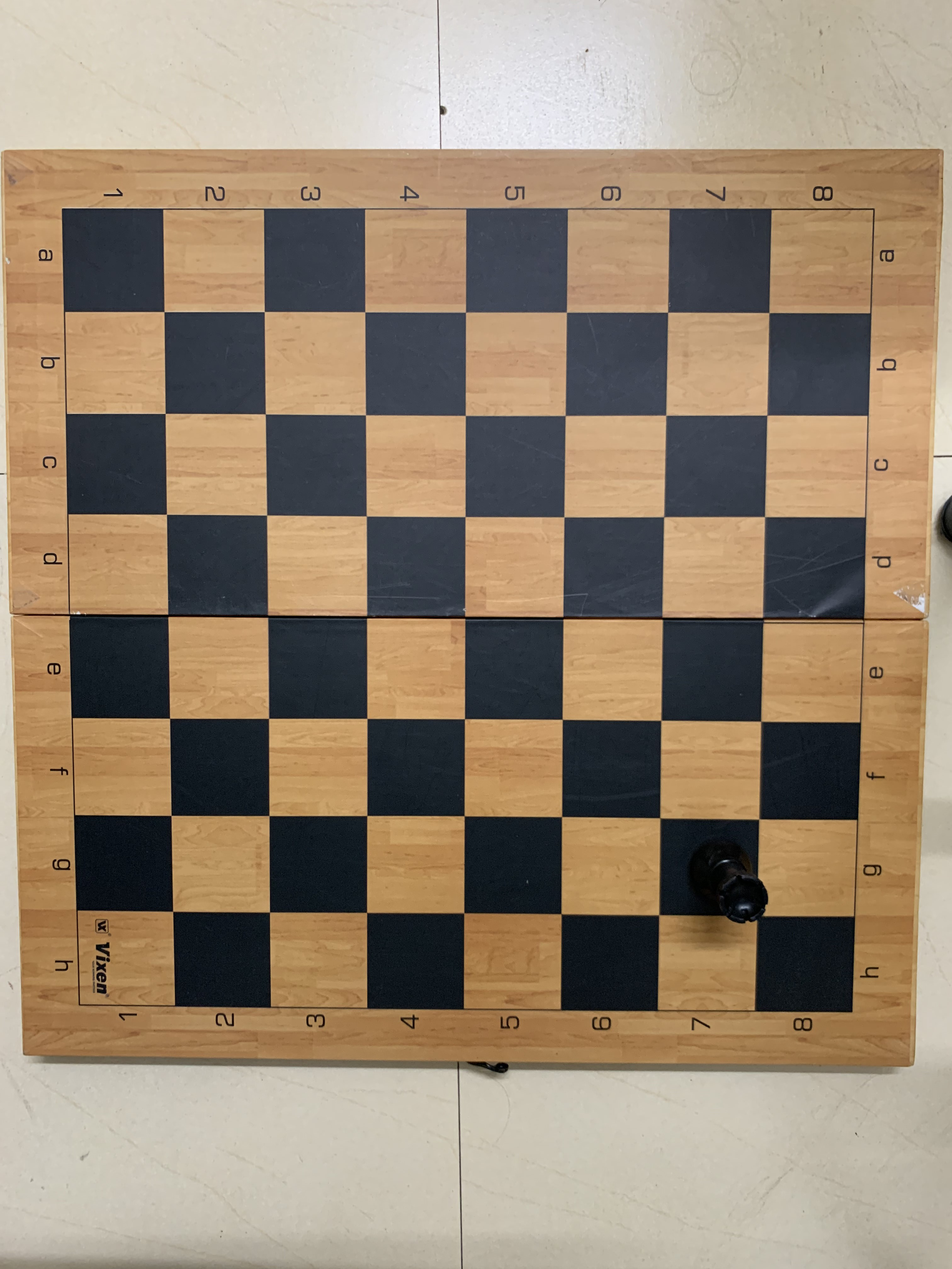black_rook: (659, 817, 771, 926)
